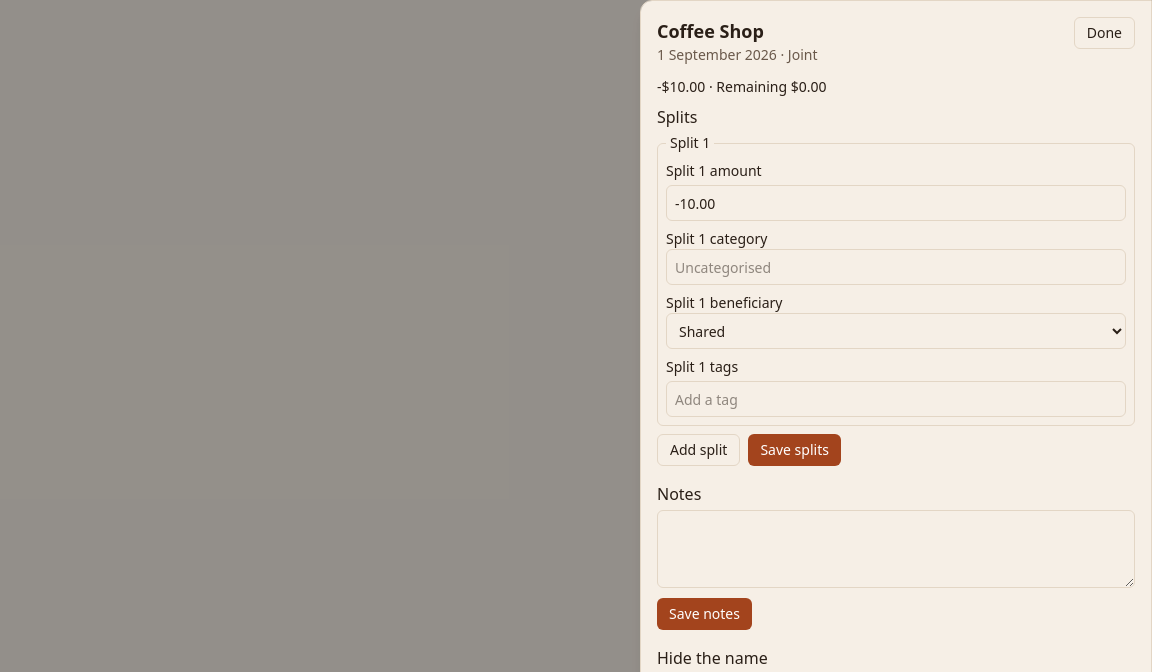
TransactionSheet › shows a refused split edit inline with the server's remaining amount
The image size is (1152, 672).
Step 1. Click the button "Save splits" → [795, 450], box [748,434,841,466]
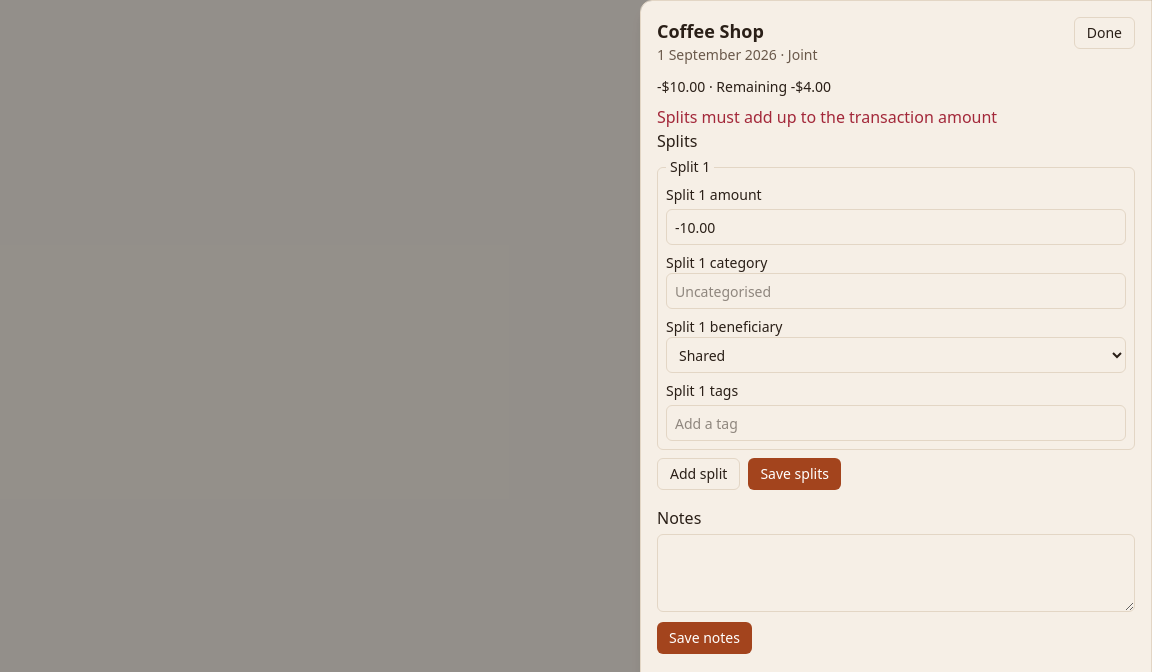
Expected: the message reads "Splits must add up to the transaction amount", [657,106,997,128]
Expected: the text "Remaining -$4.00" is shown, [716,77,831,96]
